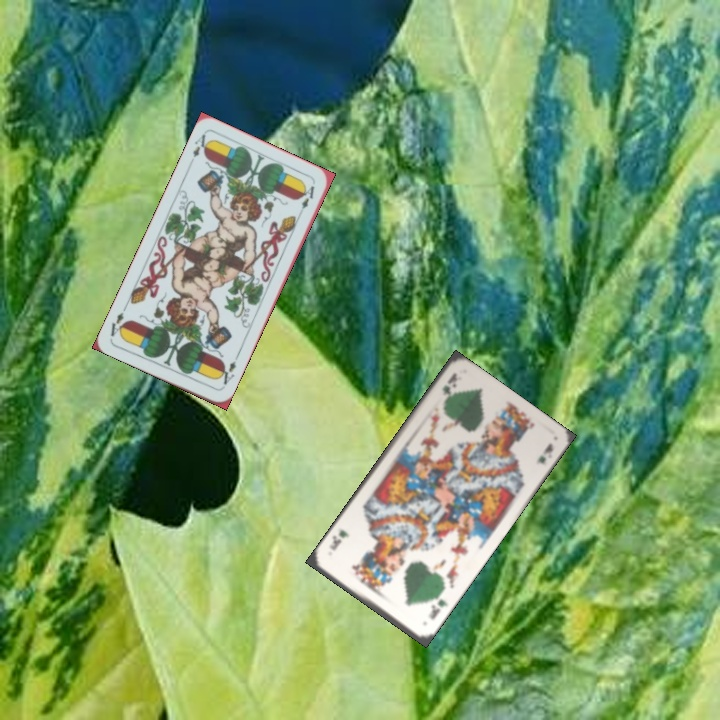EA: (185, 130, 213, 167), (214, 352, 241, 387)
GK: (425, 589, 450, 623), (438, 369, 460, 398)
